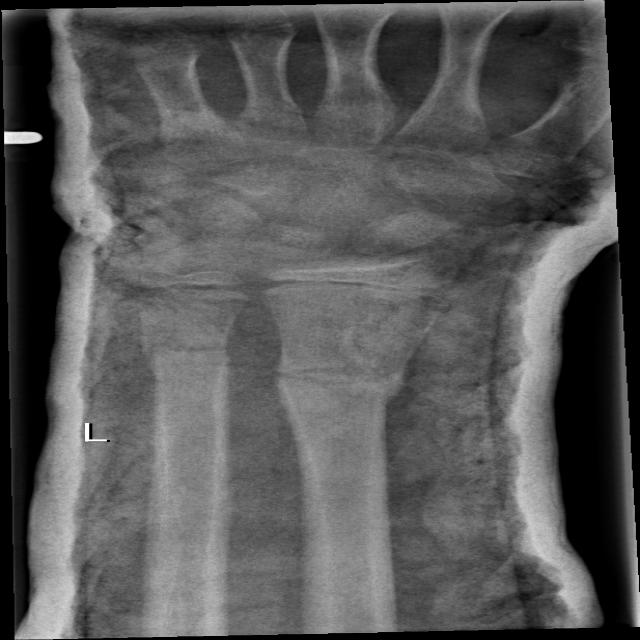radius fracture: (246, 326, 454, 520)
